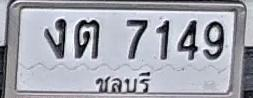1: (157, 19, 170, 60)
4: (177, 19, 198, 60)
7: (126, 19, 148, 59)
9: (203, 20, 224, 60)
A07: (44, 18, 67, 58)
A21: (74, 19, 100, 59)
CBI: (89, 68, 156, 97)
